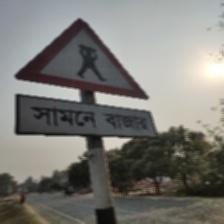Market-in-front: (13, 16, 155, 140)
